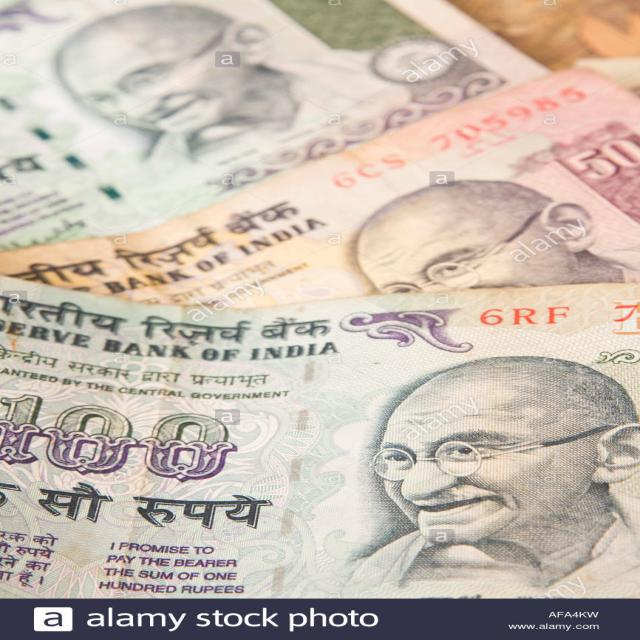100IndianRupees: (0, 277, 640, 599)
